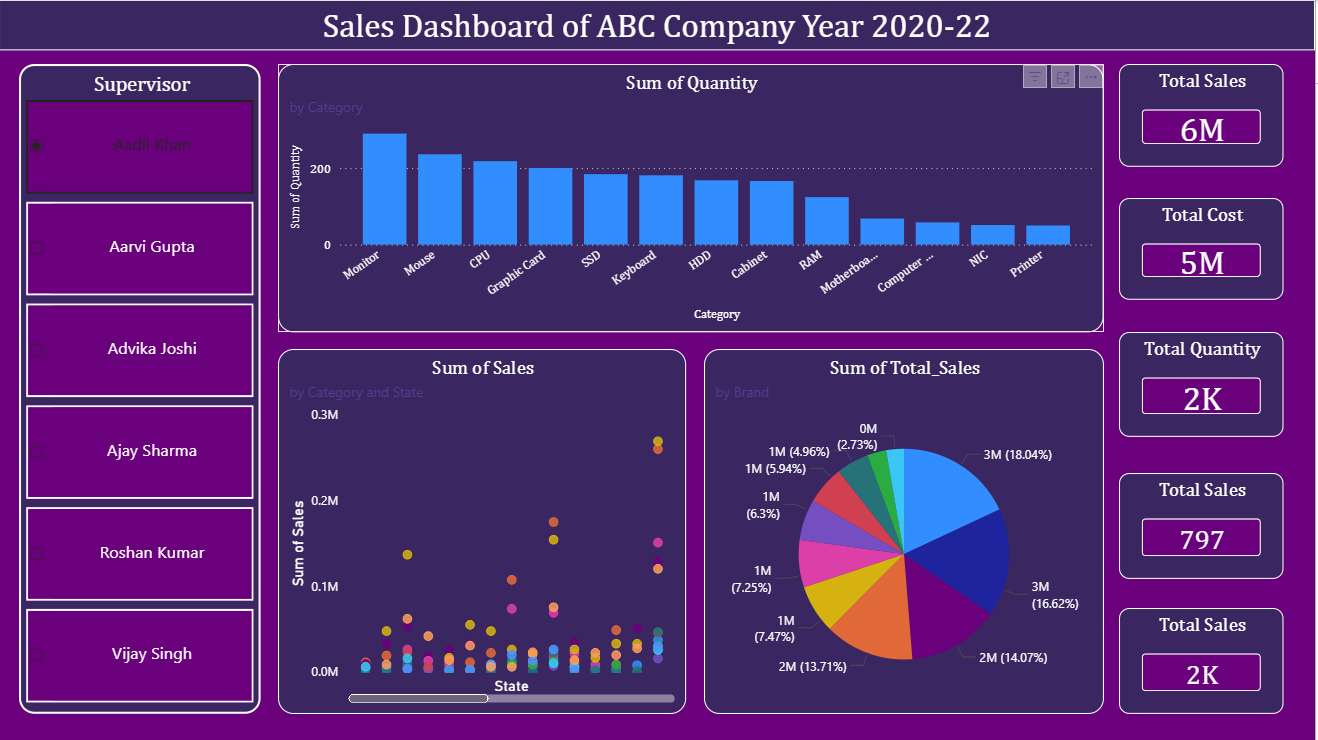

What the dashboard file says about the page in this screenshot:
{"tool":"powerbi","page":{"name":"Page 1","canvas":[1280,720],"ordinal":0},"visuals":[{"type":"textbox","box":[0,0,1280,48.6],"z":0},{"type":"cardVisual","title":"Total Sales","fields":{"Data":["Sum(Sales_Data.Sales)"]},"box":[1089.4,62.2,160.5,100.2],"z":1000},{"type":"cardVisual","title":"Total Cost","fields":{"Data":["Sum(Sales_Data.Cost)"]},"box":[1089.4,192.6,160.5,99.2],"z":2000},{"type":"cardVisual","title":"Total Quantity","fields":{"Data":["Sum(Sales_Data.Quantity)"]},"box":[1089.4,322.9,160.5,102.1],"z":3000},{"type":"cardVisual","title":"Total Sales","fields":{"Data":["CountNonNull(Sales_Data.Order_Number)"]},"box":[1089.4,460.1,160.5,103.1],"z":4000},{"type":"cardVisual","title":"Total Sales","fields":{"Data":["Sum(Sales_Data.Quantity)"]},"box":[1089.4,591.4,160.5,103.1],"z":5000},{"type":"pieChart","fields":{"Category":["Sales_Data.Brand"],"Y":["Sum(Sales_Data.Total_Sales)"]},"box":[685.7,339.5,389.1,355],"z":6000},{"type":"clusteredColumnChart","fields":{"Category":["Sales_Data.Category"],"Y":["Sum(Sales_Data.Quantity)"]},"box":[271.4,62.2,803.4,260.7],"z":7000},{"type":"scatterChart","fields":{"X":["State_list.State"],"Y":["Sum(Sales_Data.Sales)"],"Series":["Sales_Data.Category"]},"box":[271.4,339.5,396.8,355],"z":8000},{"type":"listSlicer","fields":{"Values":["Supervisor.Supervisor"]},"box":[19.5,62.2,235.4,632.2],"z":9000}]}

Visuals, with their boxes in screenshot pixels (x1, y1, x2, y2), scaled from the page's 1280x720 canvas onto the 1318x740 screenshot:
textbox: (0,0,1317,50)
"Total Sales" cardVisual: (1122,64,1287,167)
"Total Cost" cardVisual: (1122,198,1287,300)
"Total Quantity" cardVisual: (1122,332,1287,437)
"Total Sales" cardVisual: (1122,473,1287,579)
"Total Sales" cardVisual: (1122,608,1287,714)
pieChart - Sales_Data.Brand x Sum(Sales_Data.Total_Sales): (706,349,1107,714)
clusteredColumnChart - Sales_Data.Category x Sum(Sales_Data.Quantity): (279,64,1107,332)
scatterChart - State_list.State x Sum(Sales_Data.Sales): (279,349,688,714)
listSlicer - Supervisor.Supervisor: (20,64,262,714)
